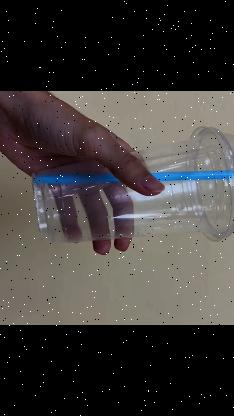Others: (31, 126, 234, 246)
